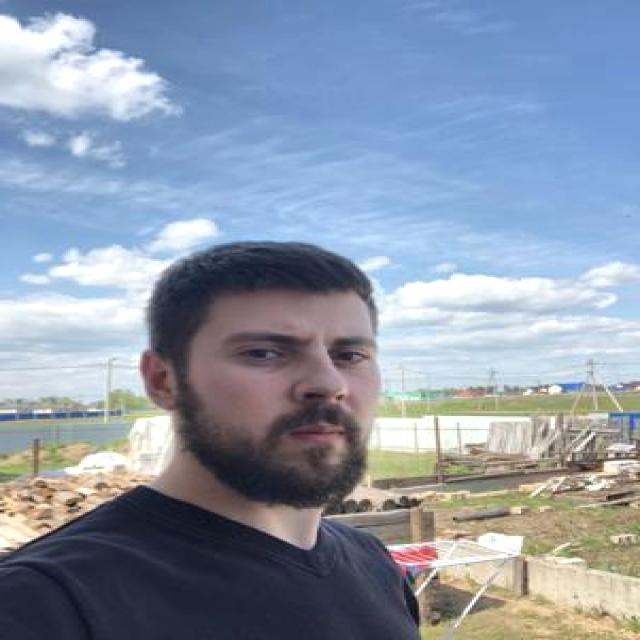face_nomask: (195, 312, 382, 509)
head_nohelmet: (168, 230, 361, 318)
person: (1, 241, 464, 640)
